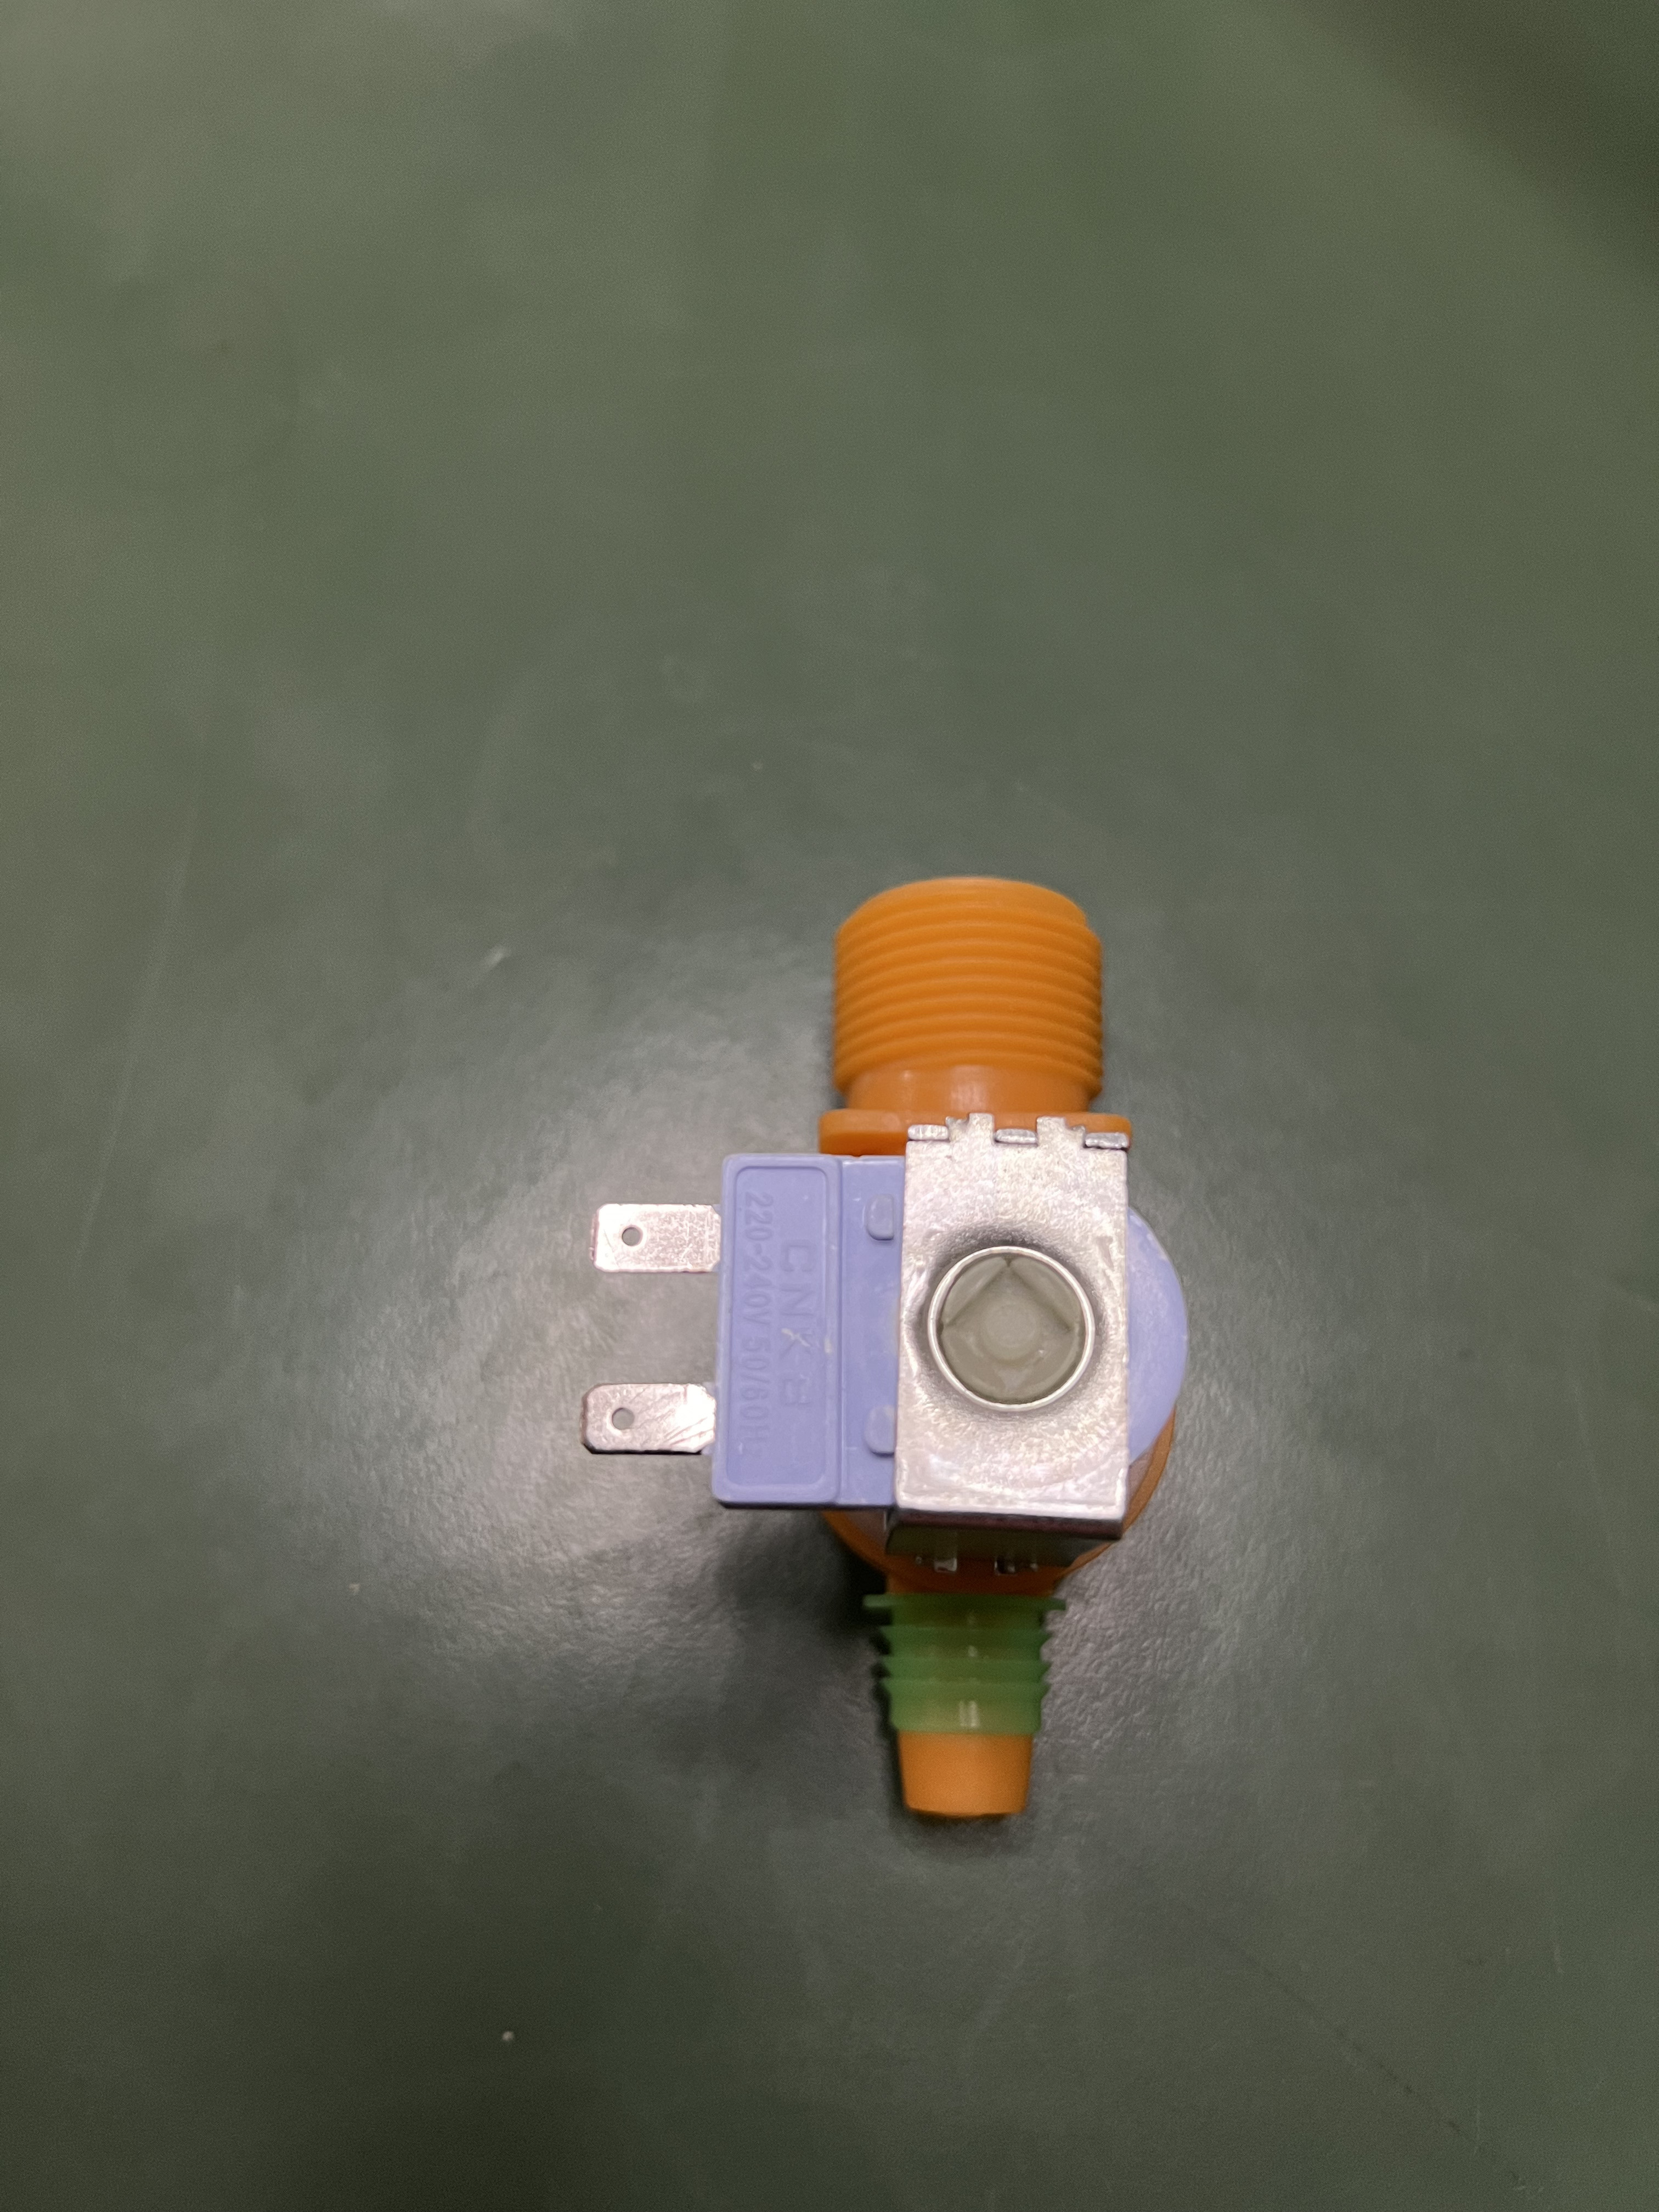ss_inlet_valves: (504, 845, 1216, 1895)
